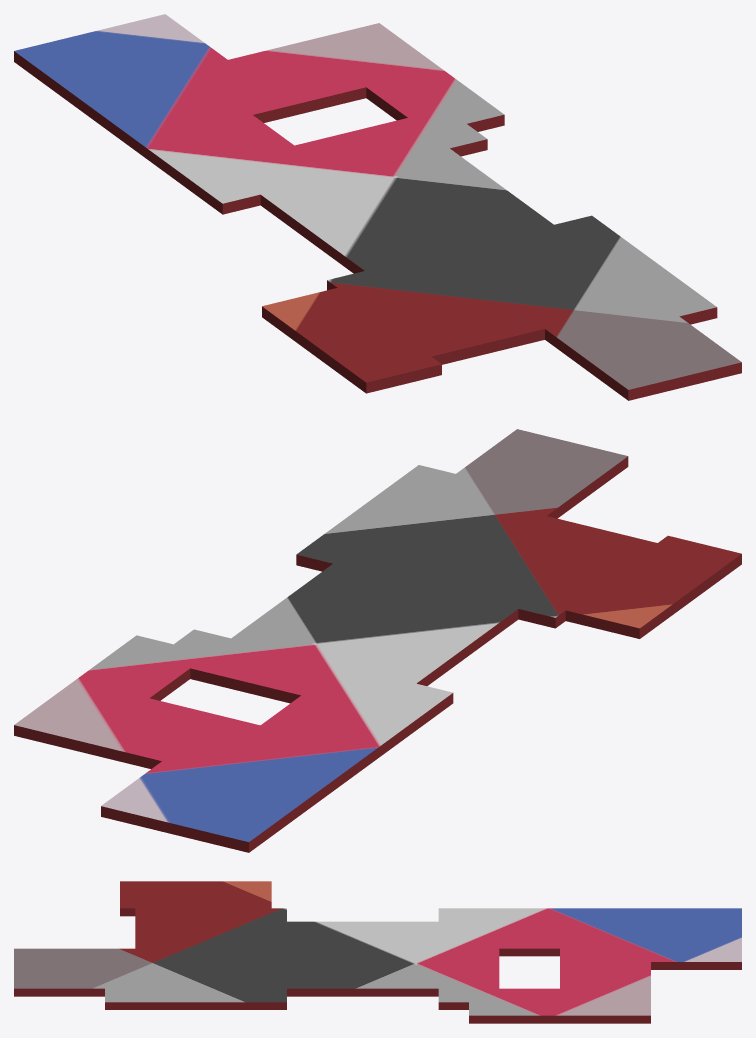
The model's file is mod_sc_tdm_roma_ground_001.fbx.
The picture shows the model from 3 angles, top to bottom: view 1: azimuth 30°, elevation 25°; view 2: azimuth 150°, elevation 25°; view 3: azimuth 270°, elevation 25°; orthographic projection. The views are drawn at different scales.
Visible parts, largest first — view 1: mod_sc_tdm_roma_ground_001; view 2: mod_sc_tdm_roma_ground_001; view 3: mod_sc_tdm_roma_ground_001.
Boxes of the visible parts, bbox=[...] form: mod_sc_tdm_roma_ground_001: bbox=[14, 14, 741, 400]; mod_sc_tdm_roma_ground_001: bbox=[14, 429, 741, 852]; mod_sc_tdm_roma_ground_001: bbox=[14, 881, 741, 1023].
Size of what is drawn, in the model's own units: 6000 by 165 by 13760.
Materials: 1 (1 with a texture image).
